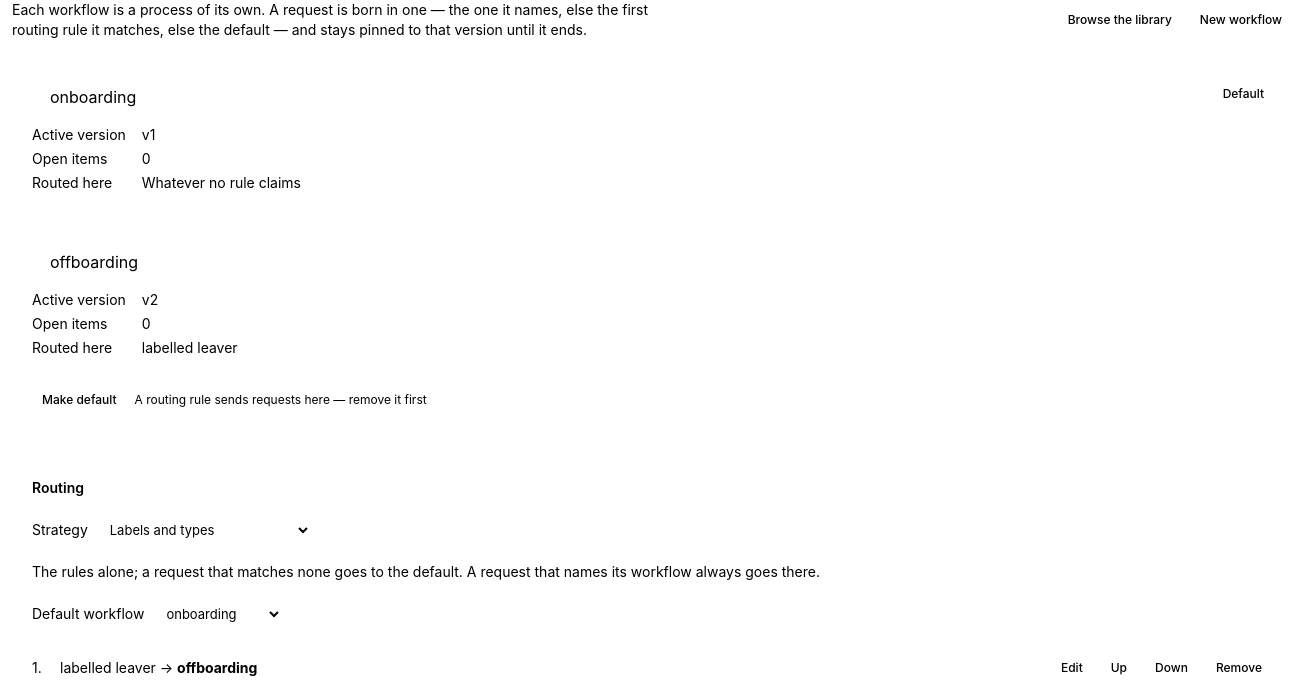
Test: the routing editor edits a rule in place › cancelling an edit leaves the rule as it was
This screenshot has width=1292, height=697.
Click the button with aria-label "Edit rule 1" at (1072, 668), box [1051,654,1093,682]
(page scrolled)
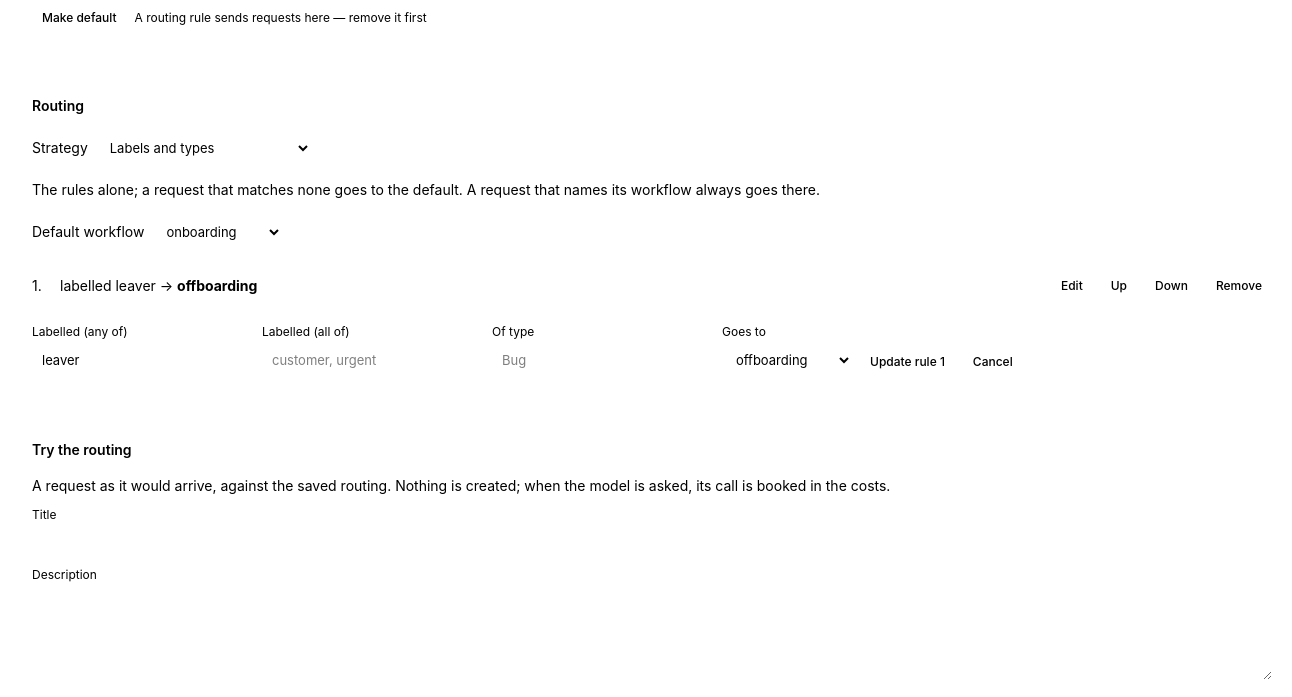
Replace the text in the field labelled "Labelled (any of)" with "other" at (143, 360), box [32,344,254,376]
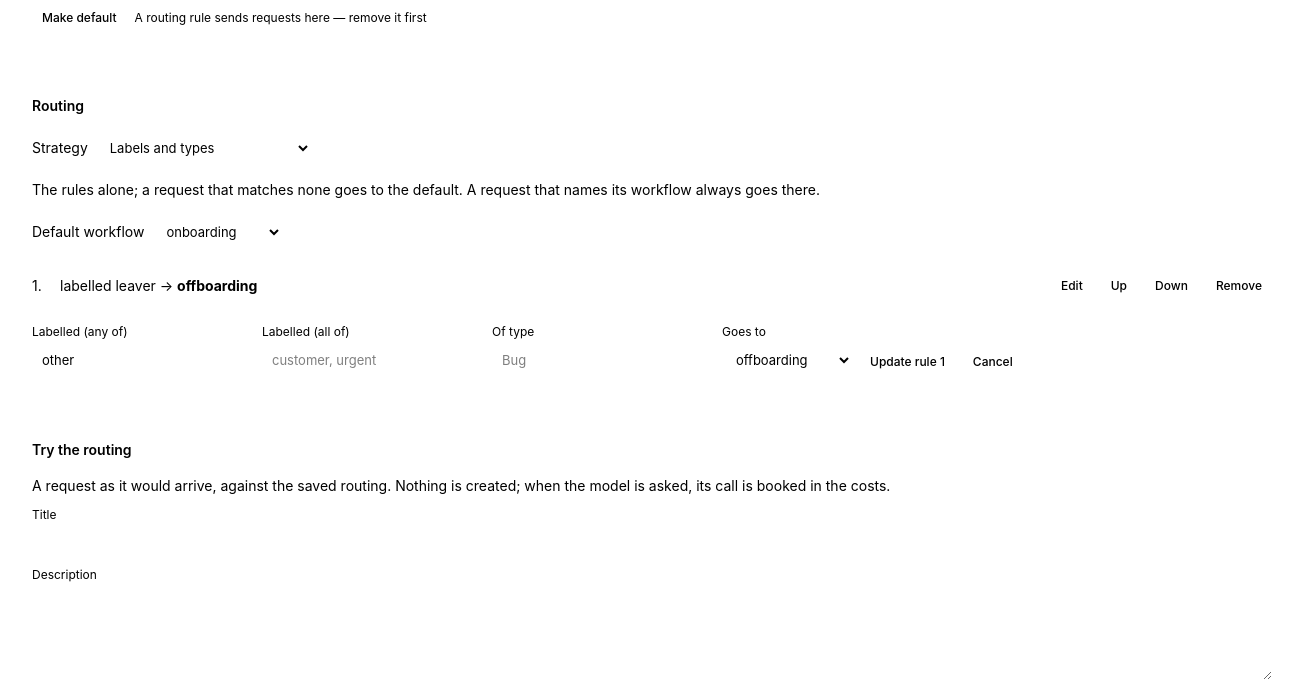
Click the button "Cancel" at (993, 362), box [963,348,1023,376]
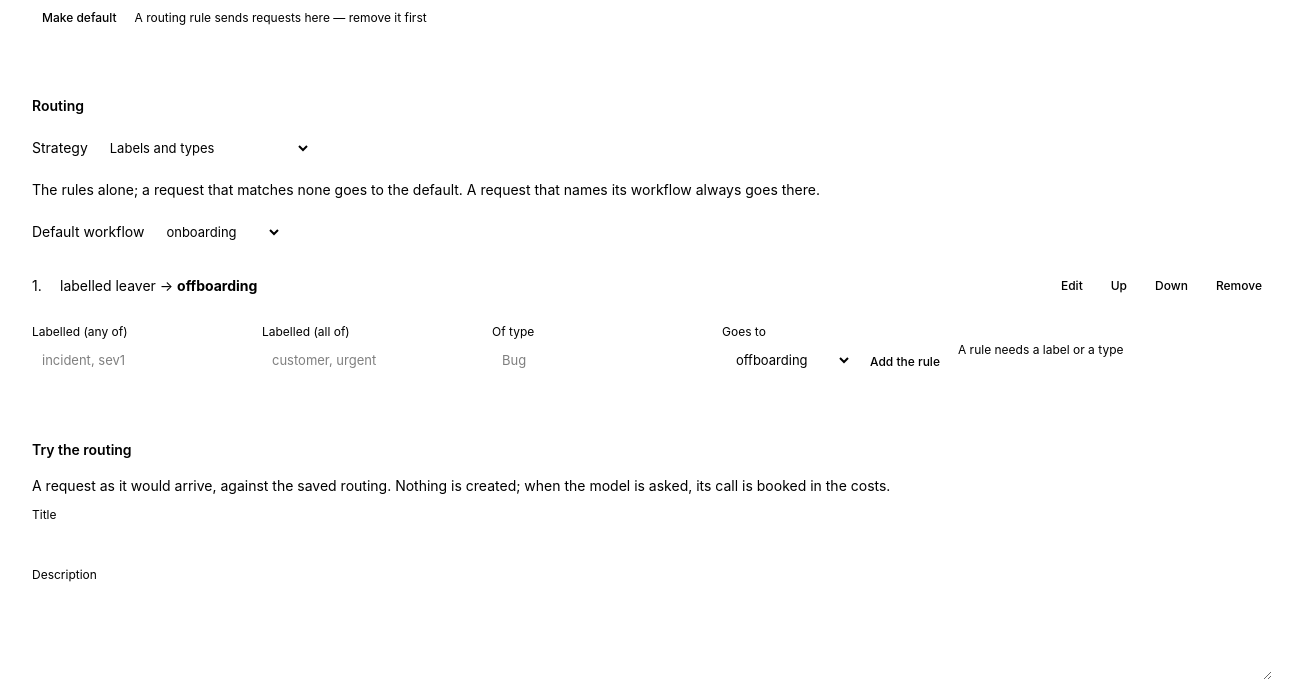
Expected: the list named "Routing rules" shows "labelled leaver → offboarding", [32,264,1272,308]
Expected: the form named "New routing rule" is shown, [32,324,1272,376]
Expected: the field labelled "Labelled (any of)" is empty, [32,344,254,376]
